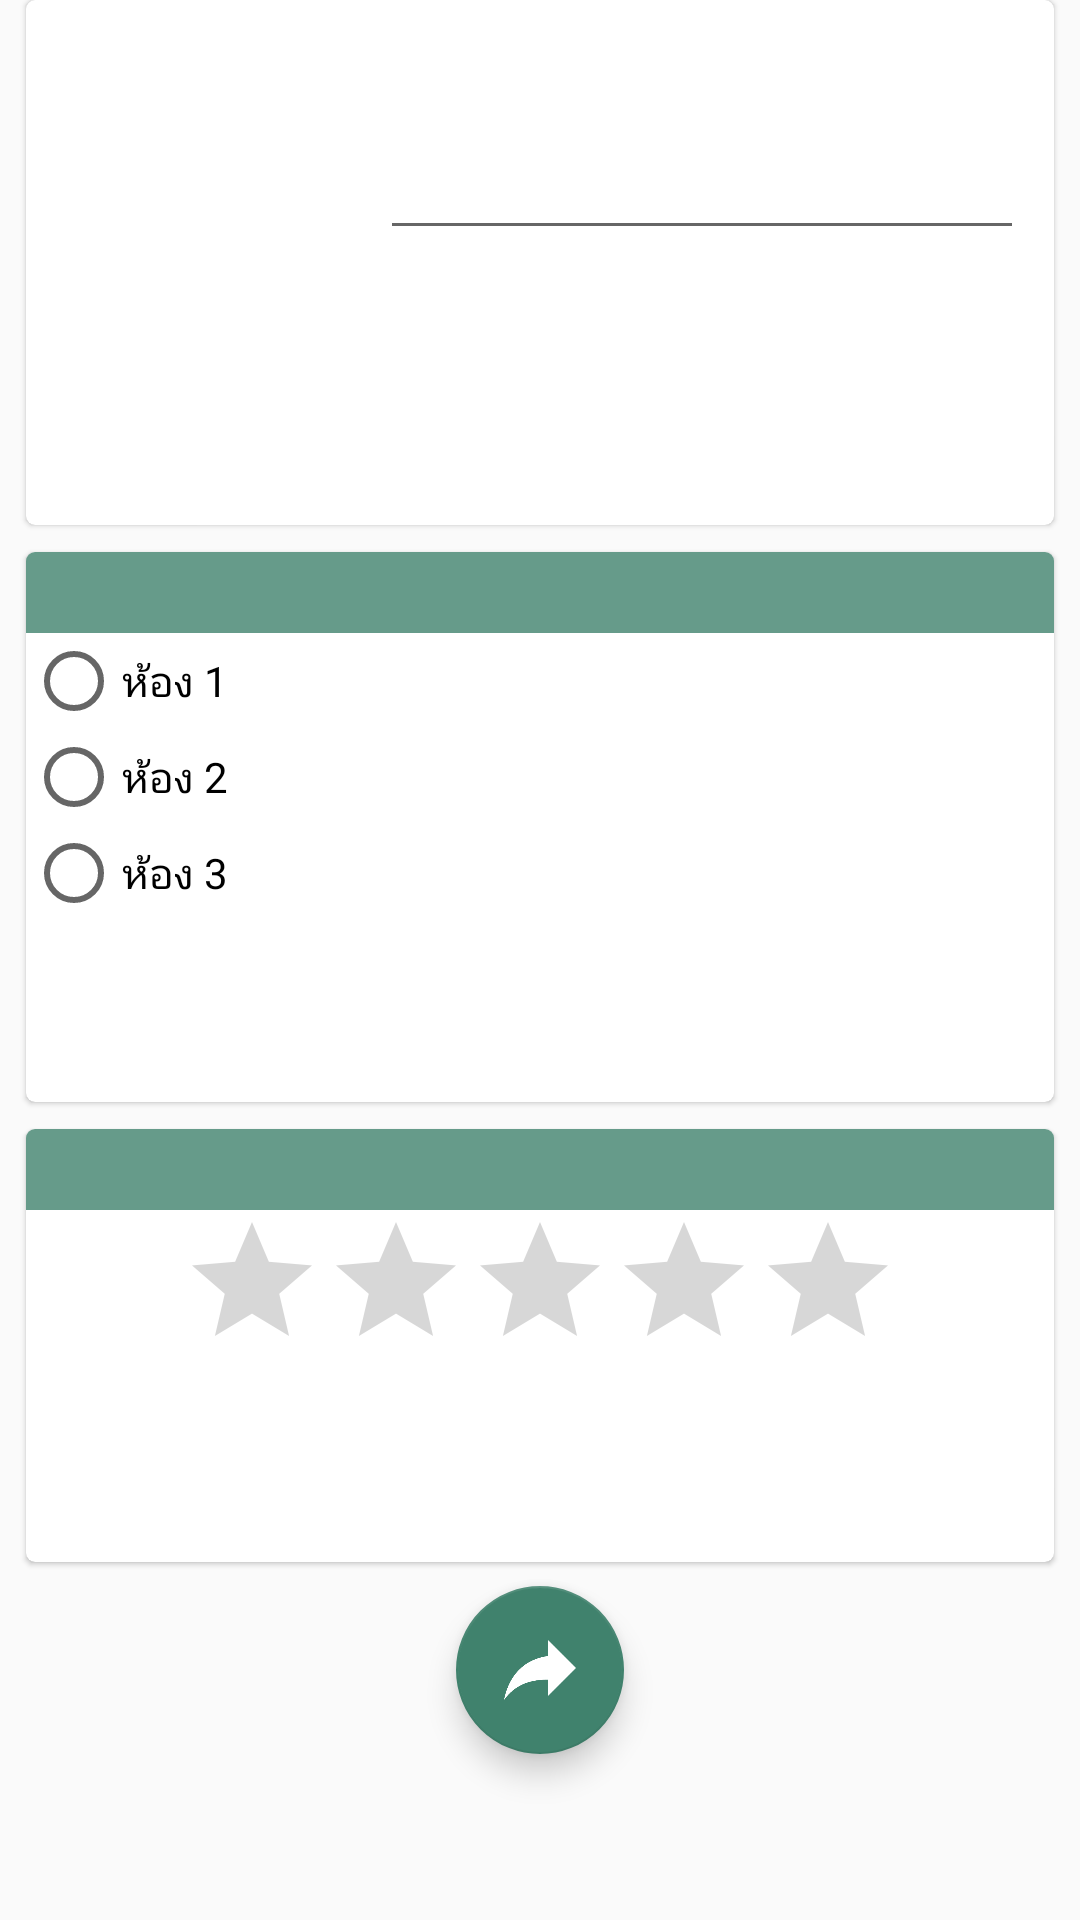

Where icons sit on this 1080×1920 app screen, as (x1, y1, x2, y2):
send: (456, 1586, 624, 1754)
